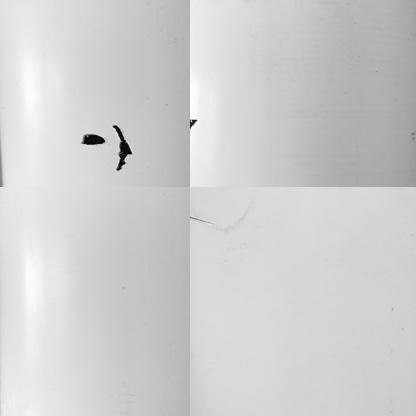kongdong: (108, 123, 135, 176), (77, 132, 105, 150), (190, 117, 198, 130)
